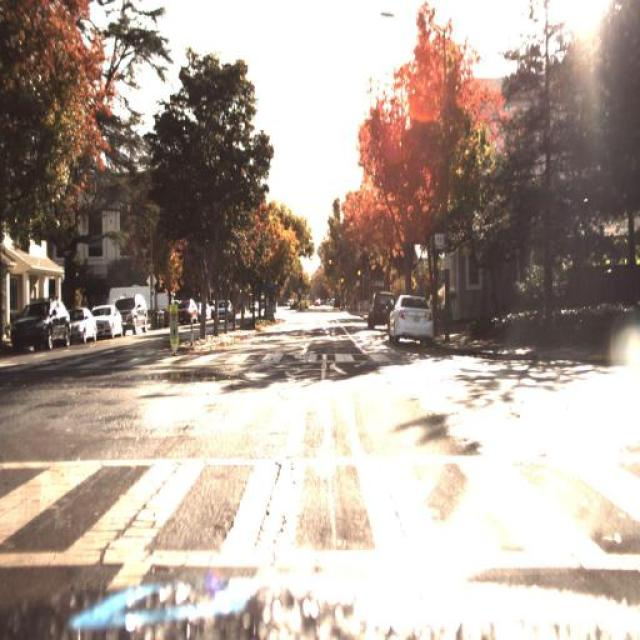car: (8, 284, 68, 352), (388, 287, 432, 342), (64, 302, 98, 343), (121, 294, 151, 334), (67, 305, 98, 341), (93, 303, 123, 339), (366, 288, 389, 326), (173, 299, 198, 323), (210, 297, 234, 322), (197, 294, 209, 321)
trafficLight-Green: (324, 250, 334, 274)
trafficLight-RedLeft: (354, 259, 364, 287), (338, 263, 347, 287)
trafficLight-YellowLeft: (354, 262, 365, 280), (337, 274, 347, 287)
